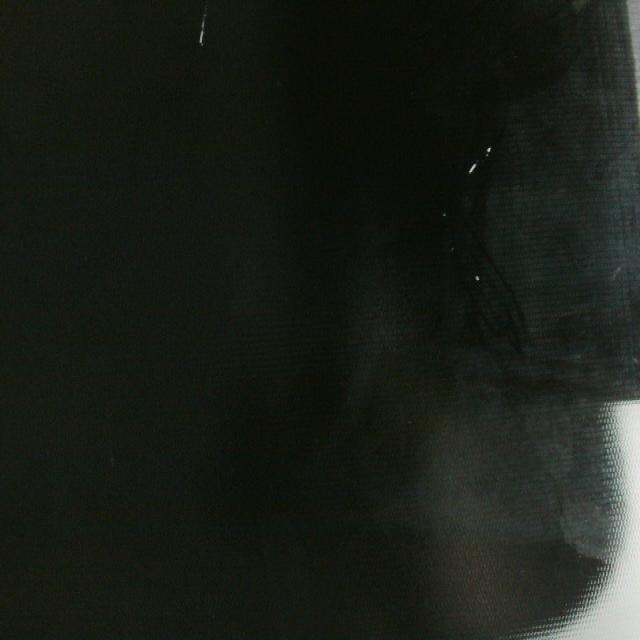very small scratch: (462, 135, 502, 182), (196, 10, 212, 60)
